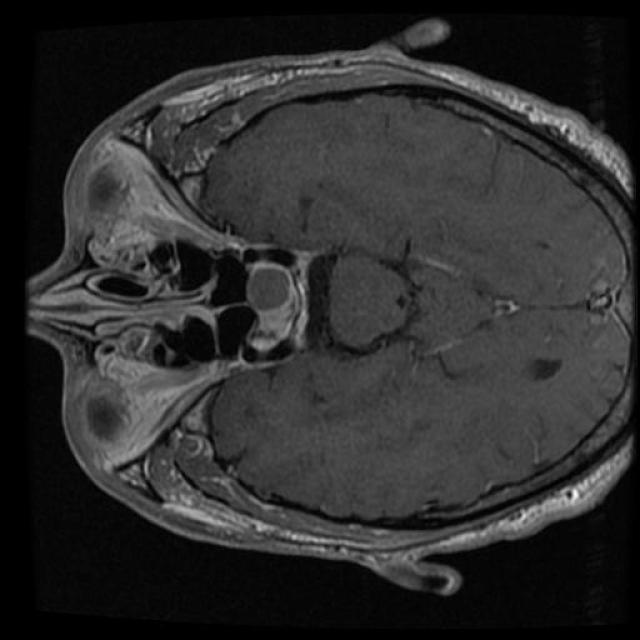Pituitary: (246, 259, 304, 355)
